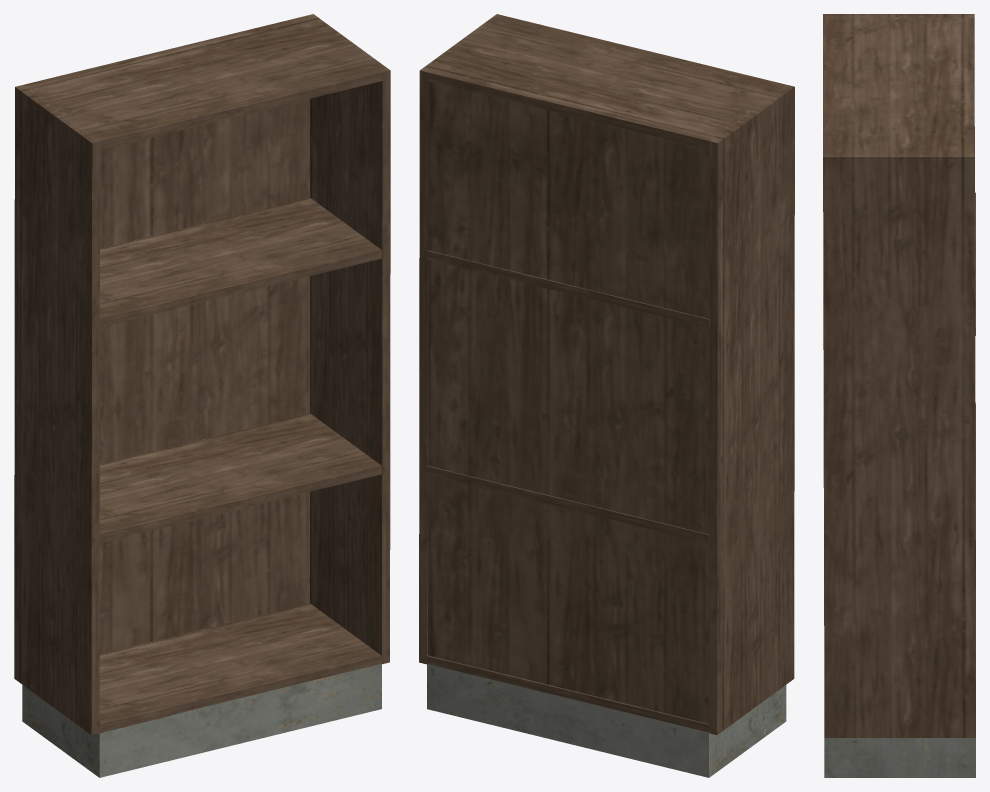
Rendered from cabin02wb.fbx.
3 views of the same model, side by side, from view 1: azimuth 30°, elevation 25°; view 2: azimuth 150°, elevation 25°; view 3: azimuth 270°, elevation 25° (orthographic).
Parts seen in each view (by area): view 1: cabin02wb; view 2: cabin02wb; view 3: cabin02wb.
Part boxes in pixels (left/top/right/bottom): cabin02wb: left=14, top=14, right=390, bottom=777; cabin02wb: left=419, top=14, right=794, bottom=777; cabin02wb: left=823, top=14, right=975, bottom=777.
Size of the model in its own units: 73.97 by 151 by 33.45.
